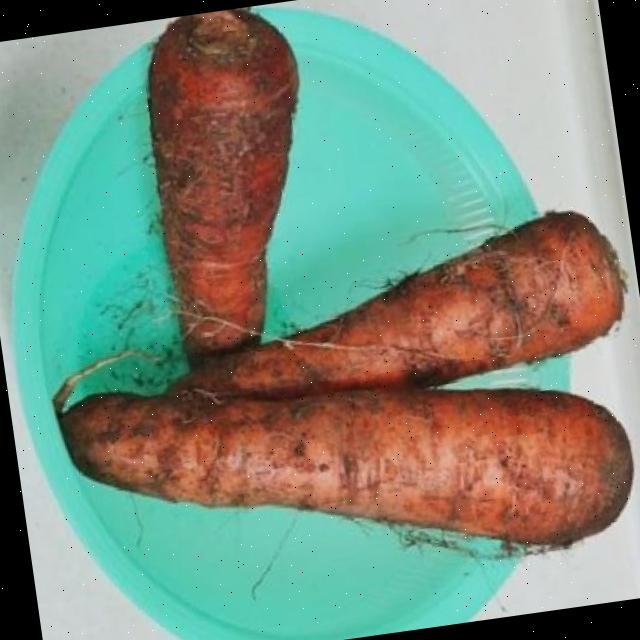carrot: (61, 387, 633, 547), (180, 213, 617, 397), (149, 8, 298, 354)
